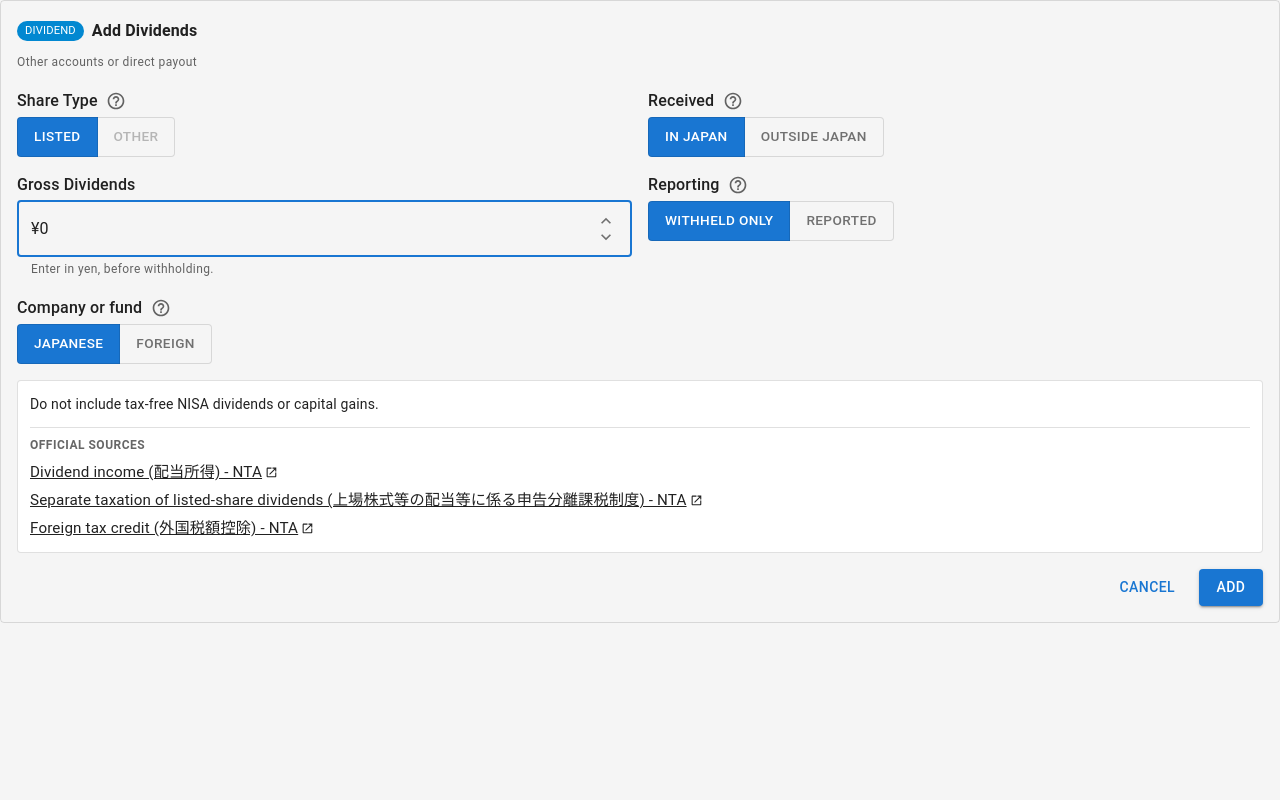
it: IncomeStreamForm › has no minus sign available for dividends, unlike capital gains
The width and height of the screenshot is (1280, 800).
Replace the text in the field labelled "Gross Dividends" with "-¥300,000" at (302, 229), box [17, 201, 586, 257]
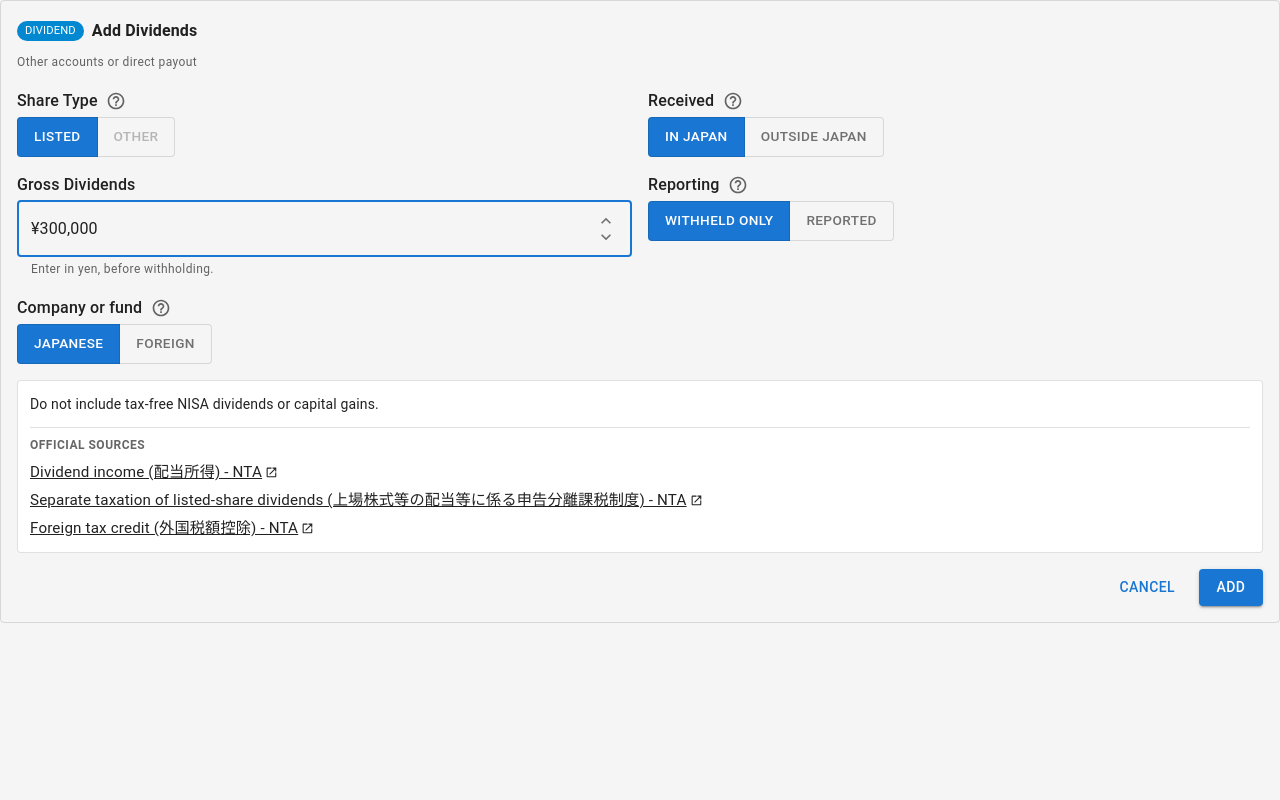
Expected: the field labelled "Gross Dividends" holds "¥300,000", [17, 201, 586, 257]
